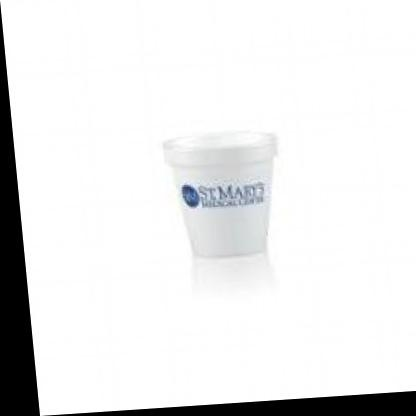trash: (164, 132, 276, 255)
